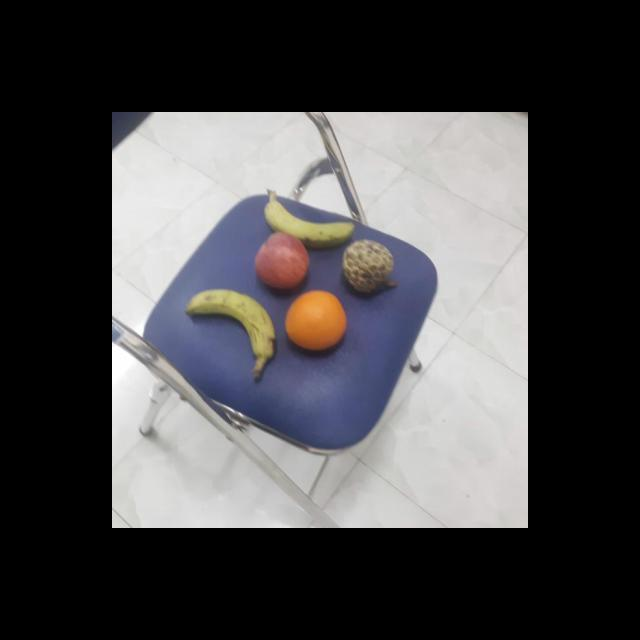Sakya fruit: (340, 240, 396, 294)
apple: (252, 229, 312, 289)
banana: (185, 289, 277, 362), (260, 196, 357, 244)
orange: (284, 291, 348, 352)
